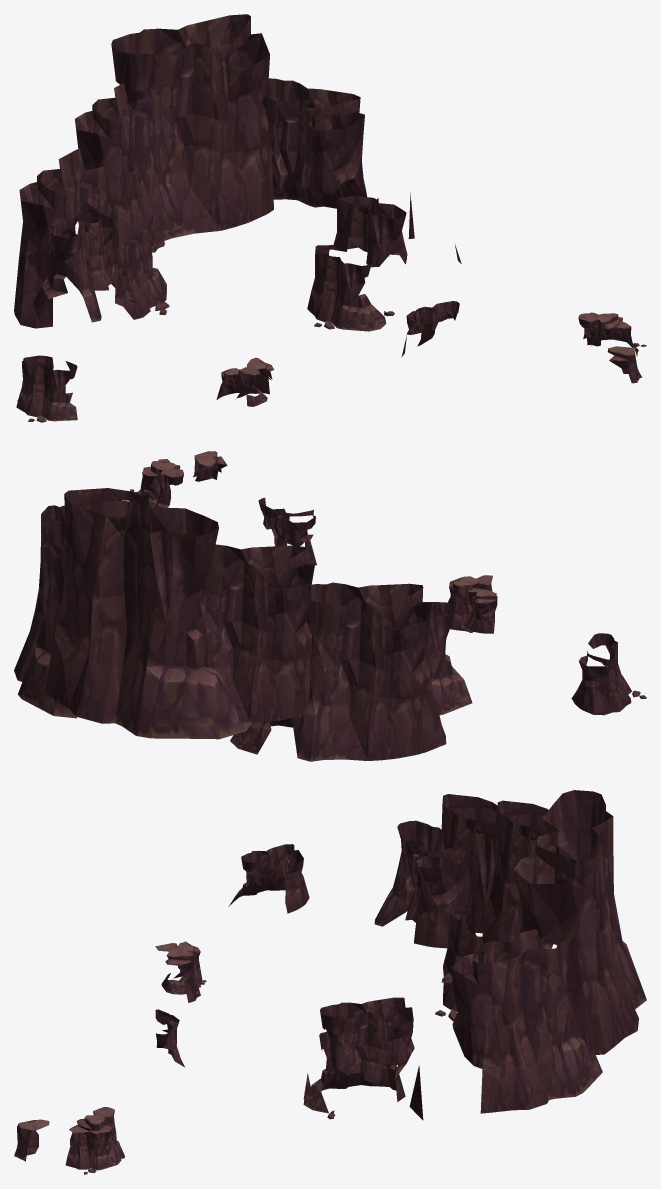
The model's file is area2_shiqiang_03.FBX.
The picture shows the model from 3 angles, top to bottom: view 1: azimuth 30°, elevation 25°; view 2: azimuth 150°, elevation 25°; view 3: azimuth 270°, elevation 25°; orthographic projection. The views are drawn at different scales.
Visible parts, largest first — view 1: area2_shiqiang_03; view 2: area2_shiqiang_03; view 3: area2_shiqiang_03.
Part boxes in pixels (left/top/right/bottom): area2_shiqiang_03: left=14, top=14, right=646, bottom=422; area2_shiqiang_03: left=14, top=451, right=646, bottom=761; area2_shiqiang_03: left=14, top=790, right=646, bottom=1174.
Bounding box in the file's own units: 11470 × 4507 × 10644.
